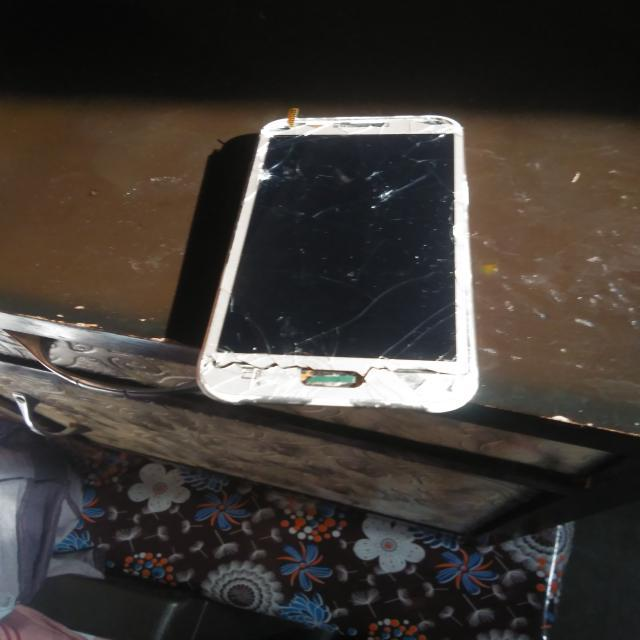screen crack: (199, 110, 497, 413)
